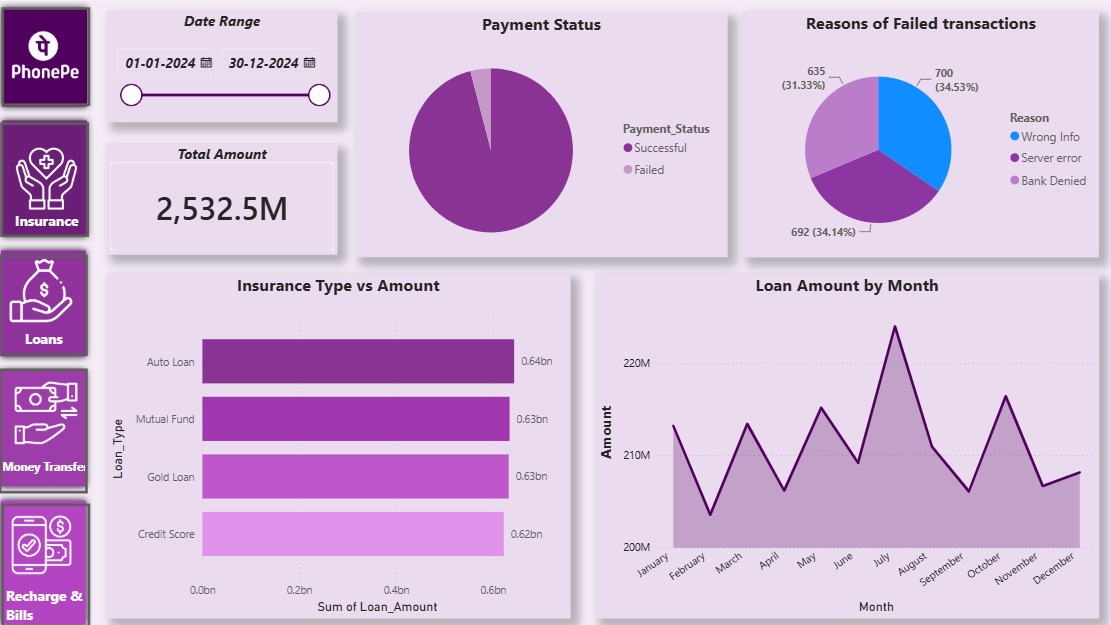

The dashboard page shown, as its layout file describes it:
{"tool":"powerbi","page":{"name":"Insurance","canvas":[1280,720],"ordinal":1},"visuals":[{"type":"shape","box":[1.4,0,112.9,128.6],"z":0,"group":"g4"},{"type":"slicer","title":"Date Range","fields":{"Values":["Insurance.Date"]},"box":[128.6,11.4,264.3,127.1],"z":0},{"type":"shape","box":[1.4,128.6,112.9,148.6],"z":1000,"group":"g1"},{"type":"cardVisual","title":"Total Amount","fields":{"Data":["Sum(Insurance.Premium)"]},"box":[128.6,155.7,264.3,127.1],"z":1000},{"type":"pieChart","title":"Reasons of Failed transactions","fields":{"Category":["Insurance.Reason"],"Y":["CountNonNull(Insurance.Reason)"]},"box":[856.3,11,406.2,288.2],"z":2000},{"type":"shape","box":[0,277.1,112.9,137.1],"z":2000,"group":"g2"},{"type":"lineChart","title":"Insurance Amount by Month","fields":{"Category":["Insurance.Date.Variation.Date Hierarchy.Month"],"Y":["Sum(Insurance.Premium)"]},"box":[687.5,319.7,575,385.6],"z":3000},{"type":"shape","box":[0,414.3,112.9,148.6],"z":3000,"group":"g5"},{"type":"group","id":"g1","title":"Group 1","box":[1.4,128.6,150,148.6],"z":4000},{"type":"shape","box":[0,562.9,112.9,157.1],"z":4000,"group":"g3"},{"type":"image","box":[17.1,152.9,85.7,100],"z":5000,"group":"g1"},{"type":"group","id":"g2","title":"Group 2","box":[0,277.1,167.1,137.1],"z":5000},{"type":"image","box":[14.3,290,81.4,80],"z":6000,"group":"g2"},{"type":"group","id":"g3","title":"Group 4","box":[0,414.3,167.1,305.7],"z":6000},{"type":"group","id":"g4","title":"Group 5","box":[1.4,0,112.9,128.6],"z":7000},{"type":"image","box":[14.3,580,80,82.9],"z":7000,"group":"g3"},{"type":"image","box":[17.7,7.8,82.2,112.2],"z":8000,"group":"g4"},{"type":"actionButton","box":[7.1,138.6,101.4,131.4],"z":8000},{"type":"actionButton","box":[5.7,290,101.4,115.7],"z":9000},{"type":"image","box":[18.6,427.2,81.4,87.1],"z":9000,"group":"g5"},{"type":"textbox","box":[1.4,234.3,150,35.7],"z":10000,"group":"g1"},{"type":"actionButton","box":[5.7,420,101.4,142.9],"z":10000},{"type":"actionButton","box":[8.6,574.3,101.4,141.4],"z":11000},{"type":"textbox","box":[8.6,662.9,101.4,52.9],"z":11000,"group":"g3"},{"type":"pieChart","title":"Payment Status","fields":{"Category":["All_Transactions.Payment_Status"],"Y":["CountNonNull(All_Transactions.Payment_Status)"]},"box":[413,11,425.4,286.8],"z":12000},{"type":"textbox","box":[0,514.3,167.1,35.7],"z":12000,"group":"g5"},{"type":"clusteredBarChart","title":"Insurance Type vs Amount","fields":{"Category":["Insurance.Insurance_Type"],"Y":["Sum(Insurance.Premium)"]},"box":[129,319.7,529.7,385.6],"z":13000},{"type":"textbox","box":[17.1,370,150,35.7],"z":13000,"group":"g2"},{"type":"group","id":"g5","title":"Group 3","box":[0,414.3,167.1,148.6],"z":21003,"group":"g3"},{"type":"actionButton","box":[7.9,7.1,101.4,112.9],"z":21006,"group":"g4"}]}

Visuals, with their boxes in screenshot pixels (x1, y1, x2, y2), scaled from the page's 1280x720 canvas onto the 1111x625 screenshot:
shape: detection(1, 0, 99, 112)
"Date Range" slicer: detection(112, 10, 341, 120)
shape: detection(1, 112, 99, 241)
"Total Amount" cardVisual: detection(112, 135, 341, 245)
"Reasons of Failed transactions" pieChart: detection(743, 10, 1096, 260)
shape: detection(0, 241, 98, 360)
"Insurance Amount by Month" lineChart: detection(597, 278, 1096, 612)
shape: detection(0, 360, 98, 489)
"Group 1" group: detection(1, 112, 131, 241)
shape: detection(0, 489, 98, 624)
image: detection(15, 133, 89, 220)
"Group 2" group: detection(0, 241, 145, 360)
image: detection(12, 252, 83, 321)
"Group 4" group: detection(0, 360, 145, 624)
"Group 5" group: detection(1, 0, 99, 112)
image: detection(12, 503, 82, 575)
image: detection(15, 7, 87, 104)
actionButton: detection(6, 120, 94, 234)
actionButton: detection(5, 252, 93, 352)
image: detection(16, 371, 87, 446)
textbox: detection(1, 203, 131, 234)
actionButton: detection(5, 365, 93, 489)
actionButton: detection(7, 499, 95, 621)
textbox: detection(7, 575, 95, 621)
"Payment Status" pieChart: detection(358, 10, 728, 259)
textbox: detection(0, 446, 145, 477)
"Insurance Type vs Amount" clusteredBarChart: detection(112, 278, 572, 612)
textbox: detection(15, 321, 145, 352)
"Group 3" group: detection(0, 360, 145, 489)
actionButton: detection(7, 6, 95, 104)
